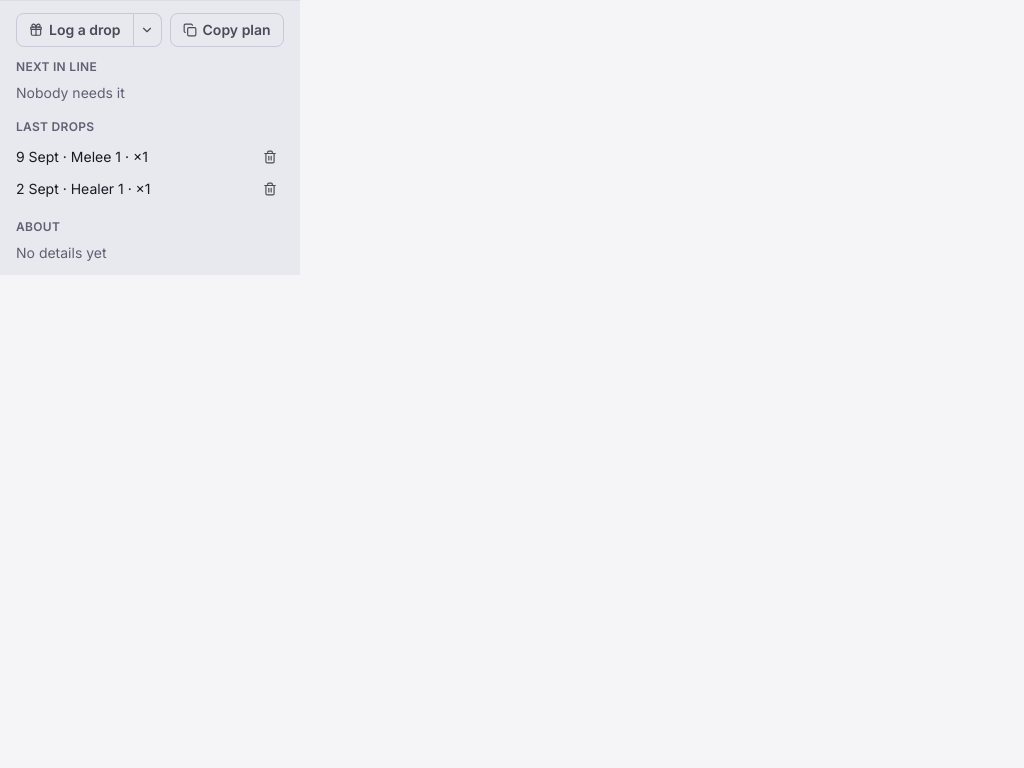
DropList: delete (D-14) › deletes through the store, then refreshes the farm, toasts, and moves focus to the next delete button
Click the button named "Delete drop for Melee 1, 9 Sept 2026" at (270, 157), box [256, 143, 284, 171]
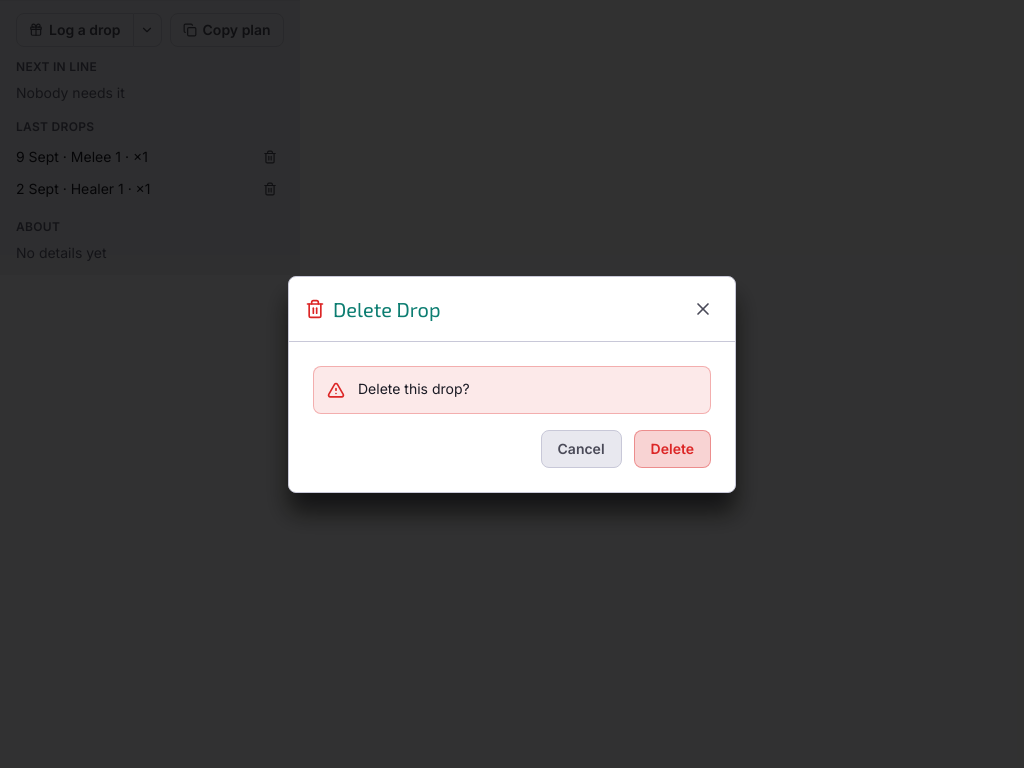
Click the button "Delete" at (672, 448), box [634, 430, 711, 468]
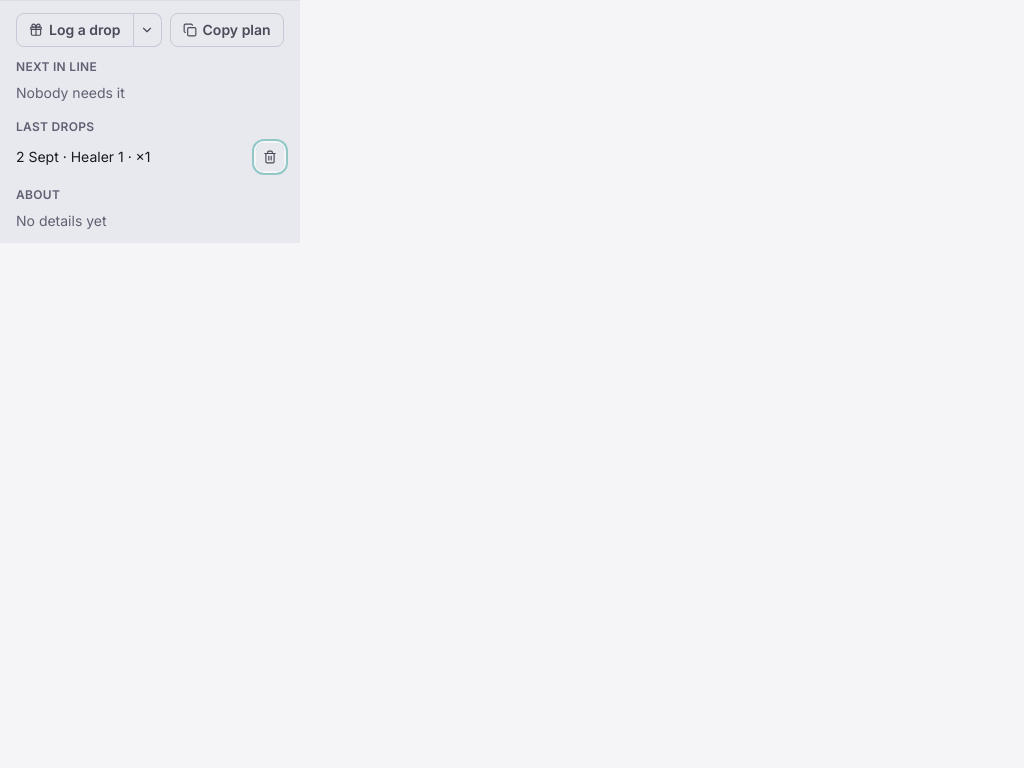
Expected: the dialog is gone
